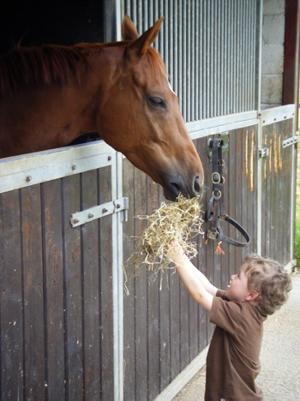person: (163, 231, 291, 399)
